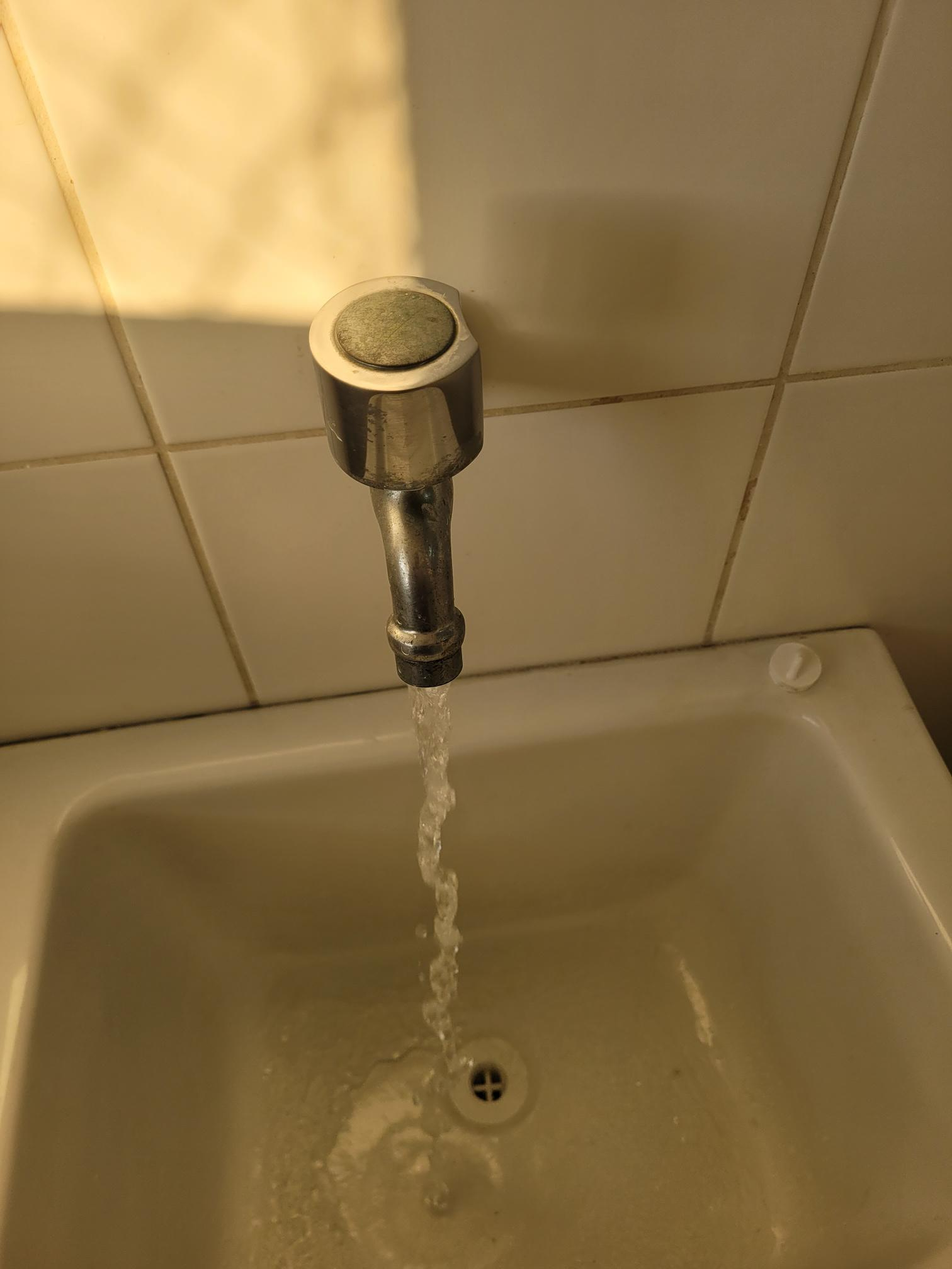torneira_aberta: (224, 258, 677, 1080)
